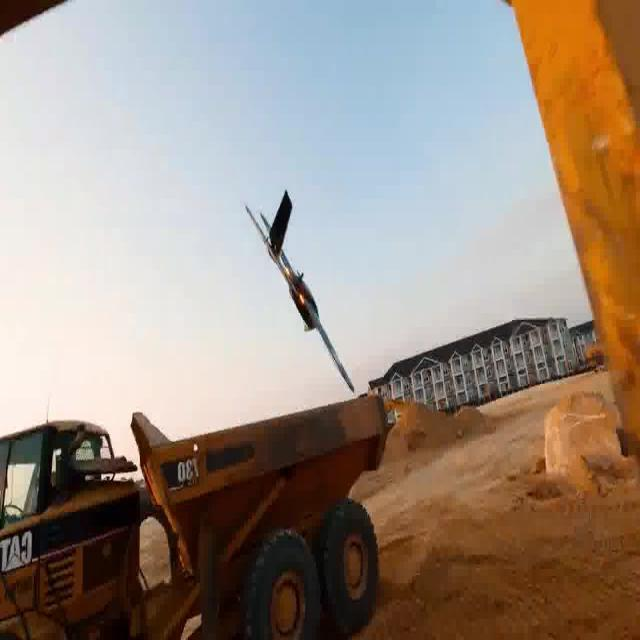iha: (272, 176, 325, 395)
